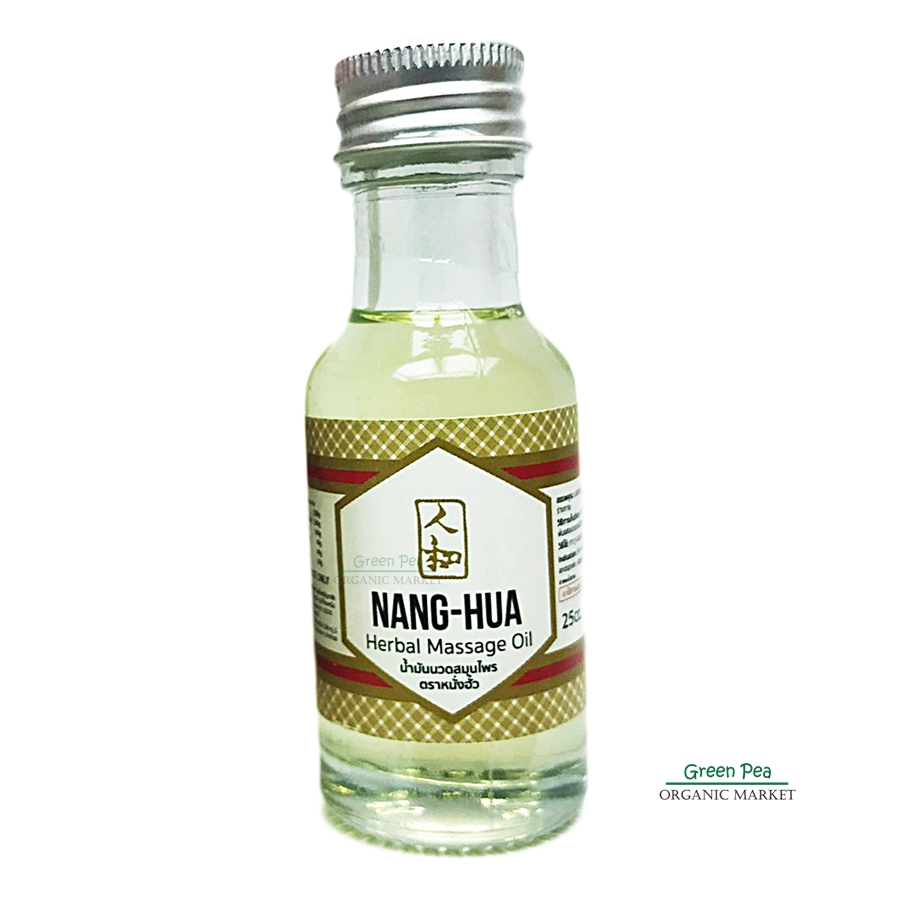glass_bottle: (297, 31, 599, 872)
